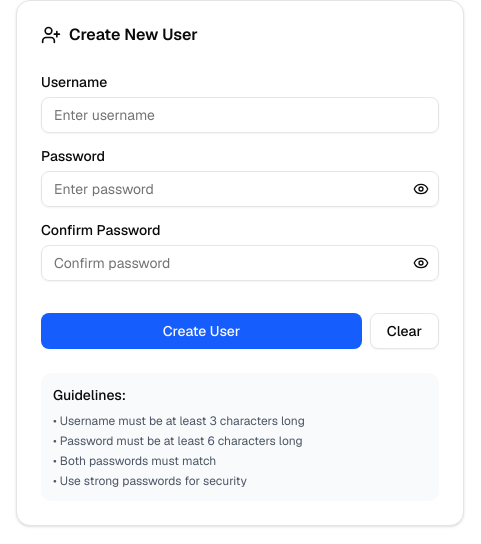
Test: UserCreationForm › clears form when clear button is clicked
The width and height of the screenshot is (481, 544).
# Fill form
In the field with placeholder "Enter username": [240, 115] box [41,97,439,133], type "testuser"
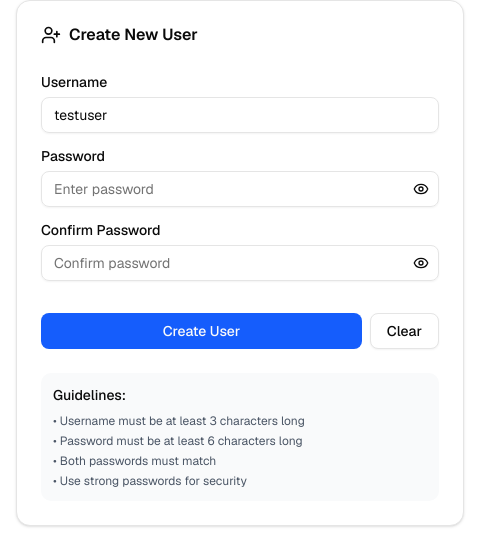
In the password field with placeholder "Enter password": [240, 189] box [41,171,439,207], type "password123"
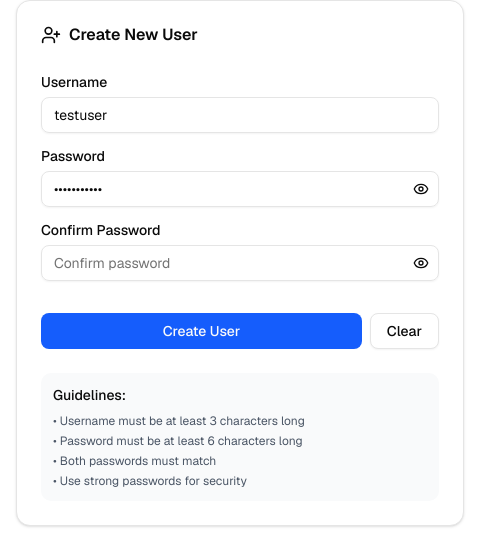
In the password field with placeholder "Confirm Password": [240, 263] box [41,245,439,281], type "password123"
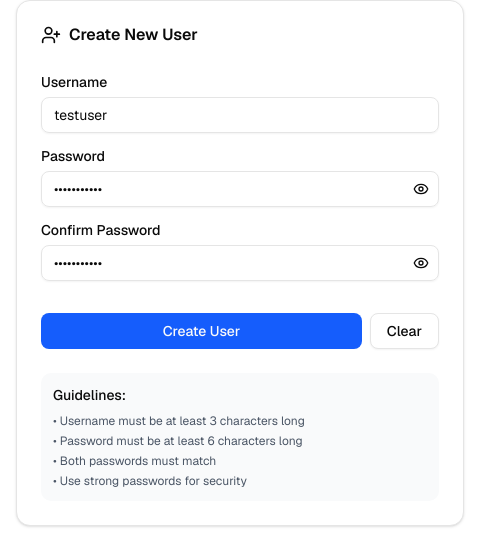
# Clear form
Click the button "Clear": [404, 331] box [370,313,439,349]
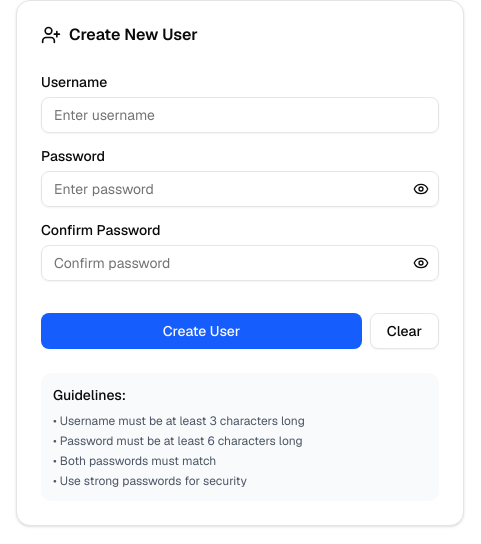
Check: the field with placeholder "Enter username" is empty, box [41,97,439,133]
Check: the password field with placeholder "Enter password" is empty, box [41,171,439,207]
Check: the password field with placeholder "Confirm Password" is empty, box [41,245,439,281]
